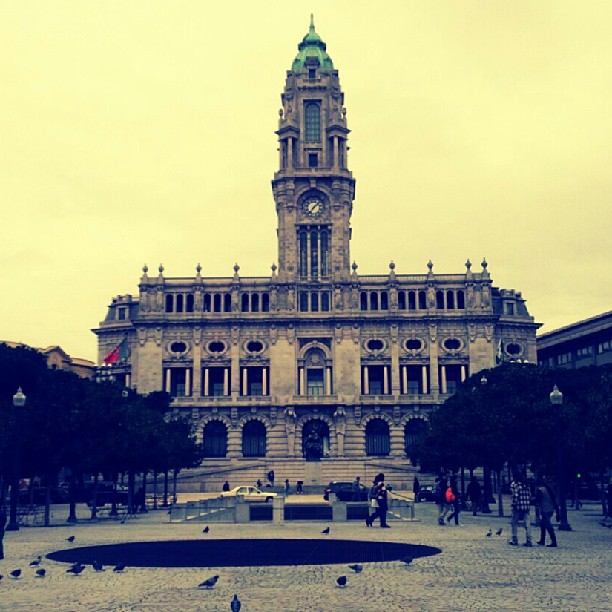camara: (89, 12, 545, 481)
